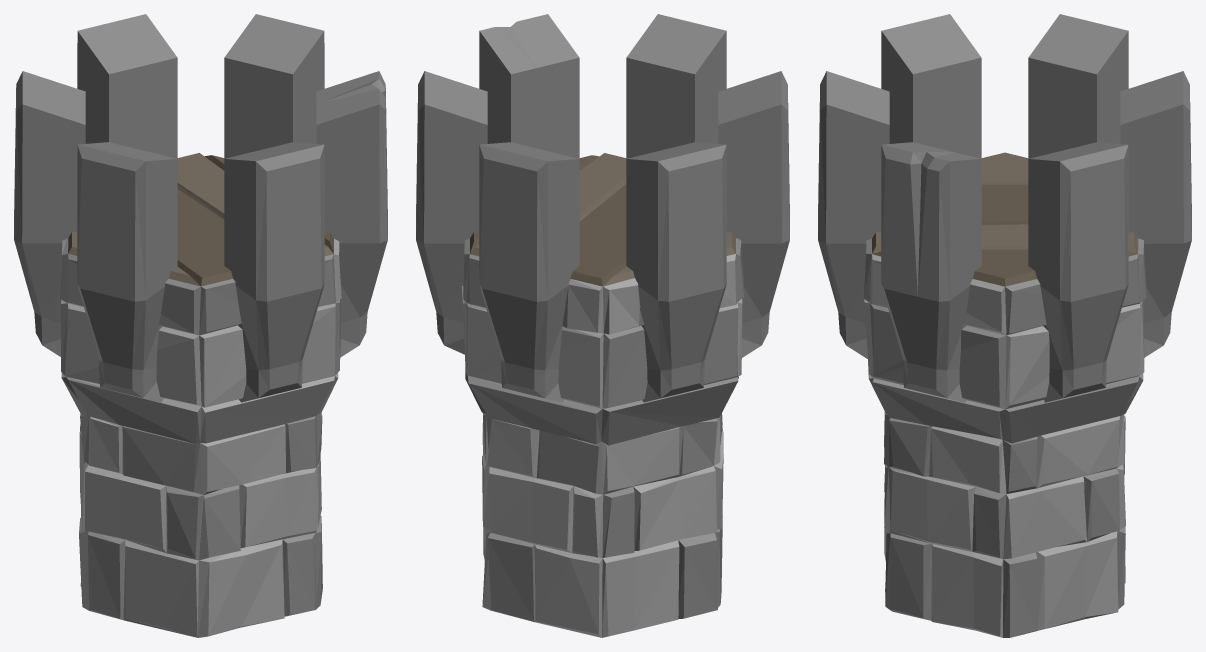
File: _PROPS_UP_01.fbx
3 views of the same model, side by side, from view 1: azimuth 30°, elevation 25°; view 2: azimuth 150°, elevation 25°; view 3: azimuth 270°, elevation 25° (orthographic).
Visible parts, largest first — view 1: PROPS_UP_01; view 2: PROPS_UP_01; view 3: PROPS_UP_01.
Boxes of the visible parts, <box> form: PROPS_UP_01: <box>14,14,387,637</box>; PROPS_UP_01: <box>416,14,789,637</box>; PROPS_UP_01: <box>818,14,1191,637</box>.
Size of the model in its own units: 286 by 440 by 301.
